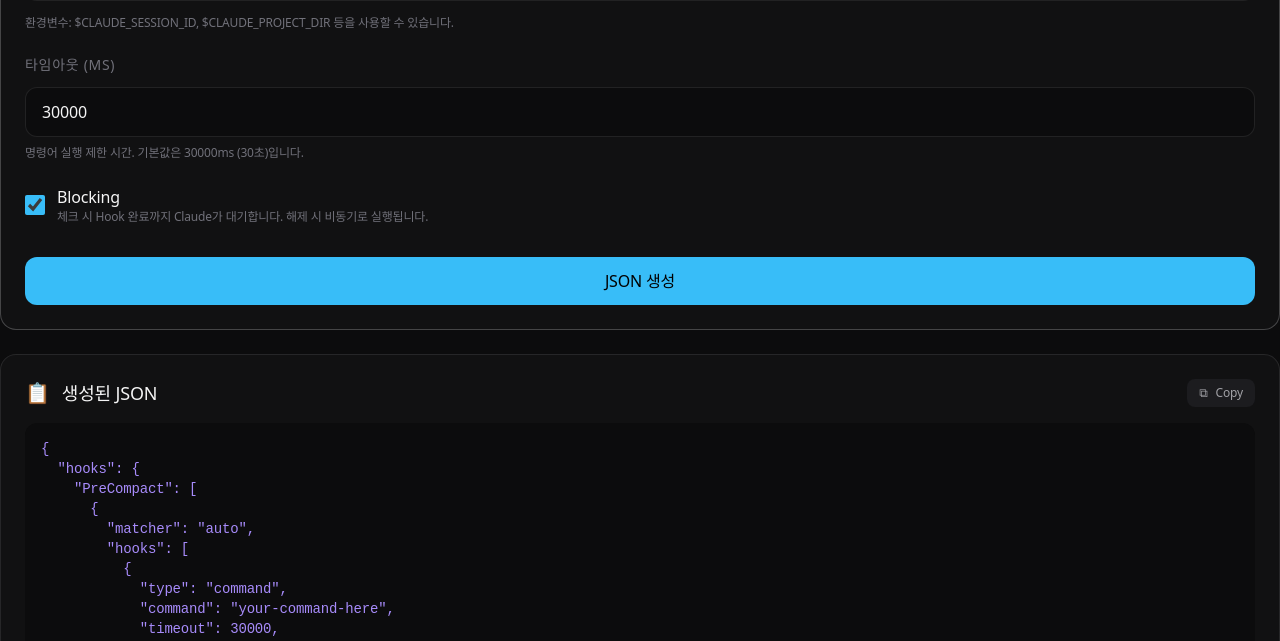
HookConfigGenerator › validates command input before generating
(page scrolled)
// Click generate without entering command
Click the button "JSON 생성".
click(640, 281)  # box [25,257,1255,305]
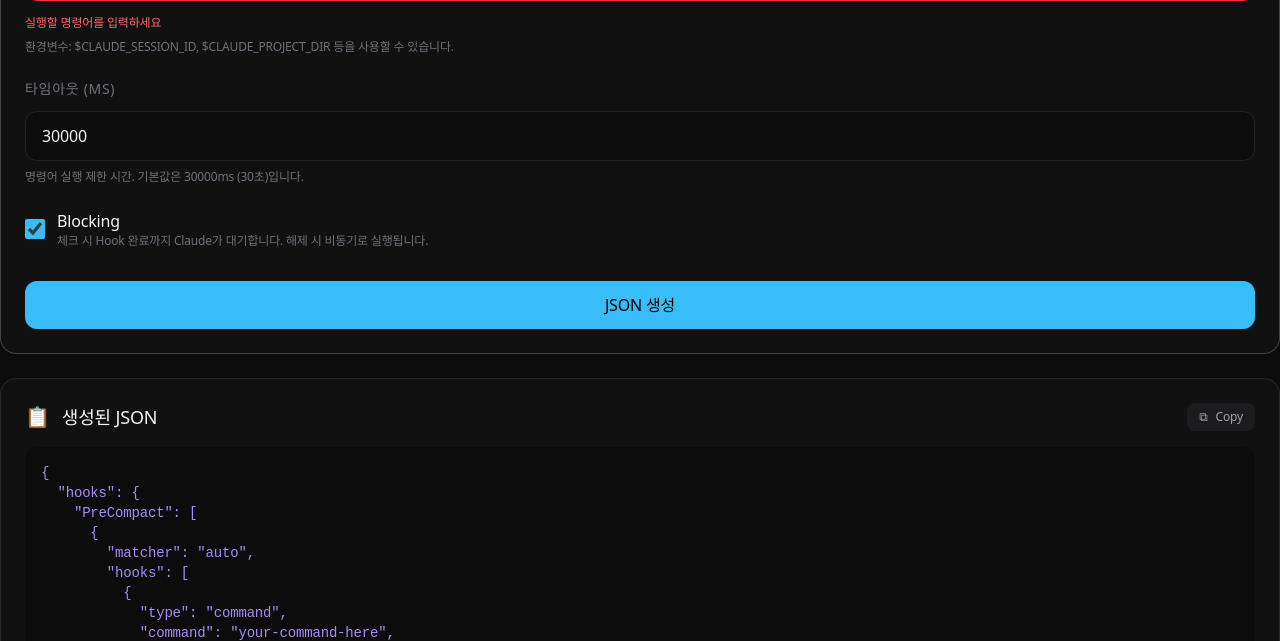
Expected: the text "실행할 명령어를 입력하세요" is shown, [25,14,161,31]
